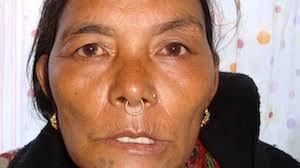strokeEyeWeak: (61, 18, 199, 67)
